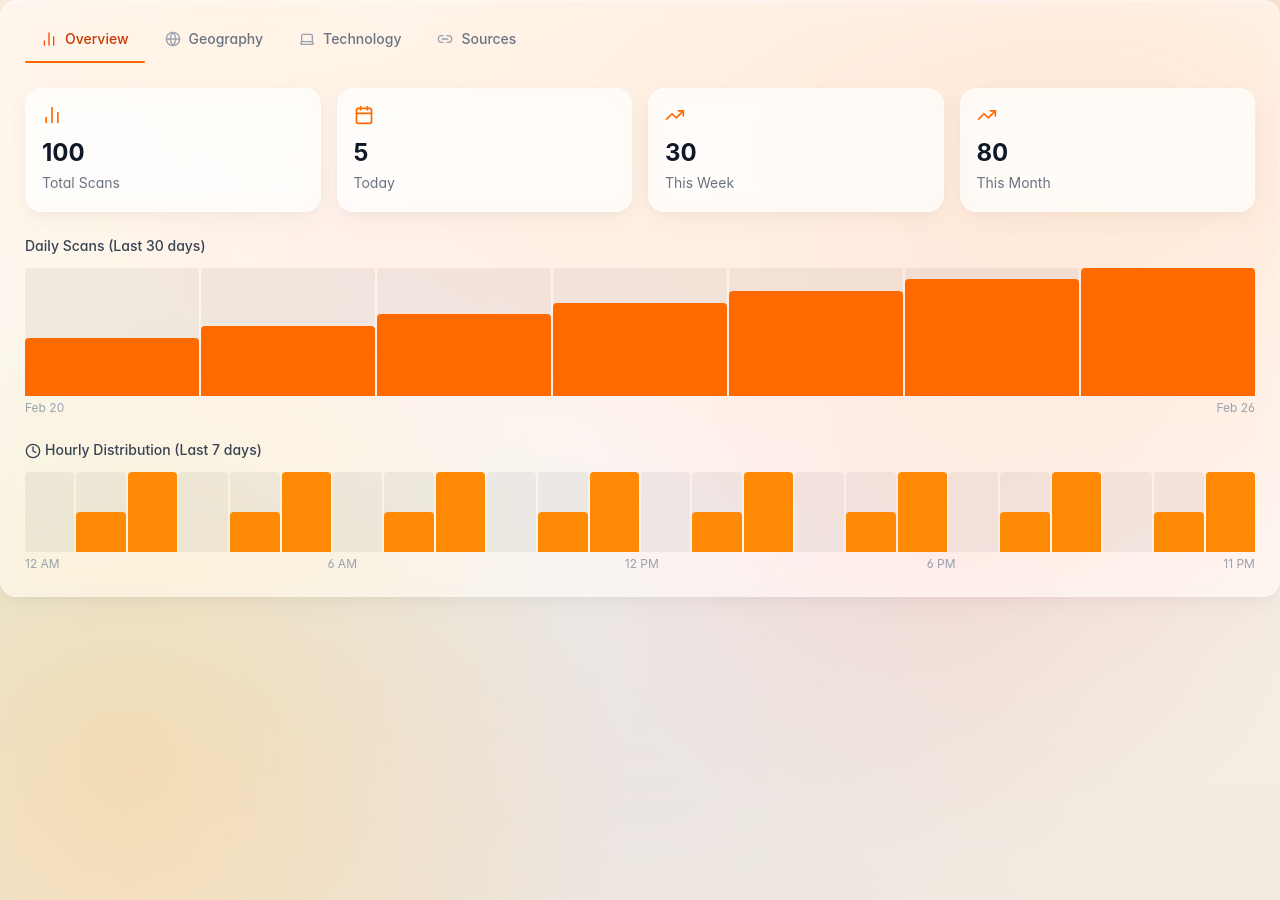
Test: AnalyticsCharts › tab rendering › switches to Geography tab on click
Click the tab "Geography" at x=214, y=39, box [148,17,279,61]
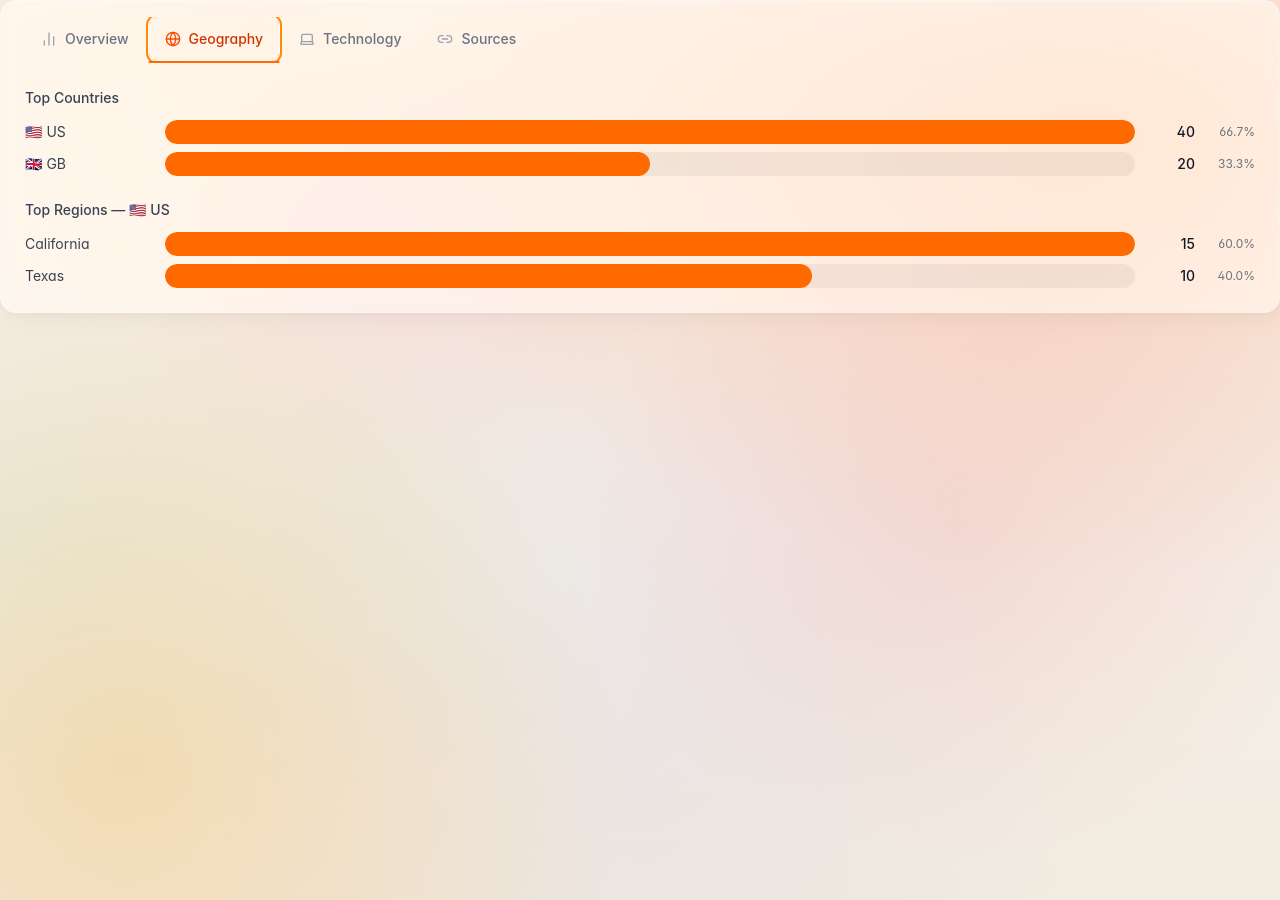
Expected: the heading "Top Countries" is shown, [25,89,119,106]
